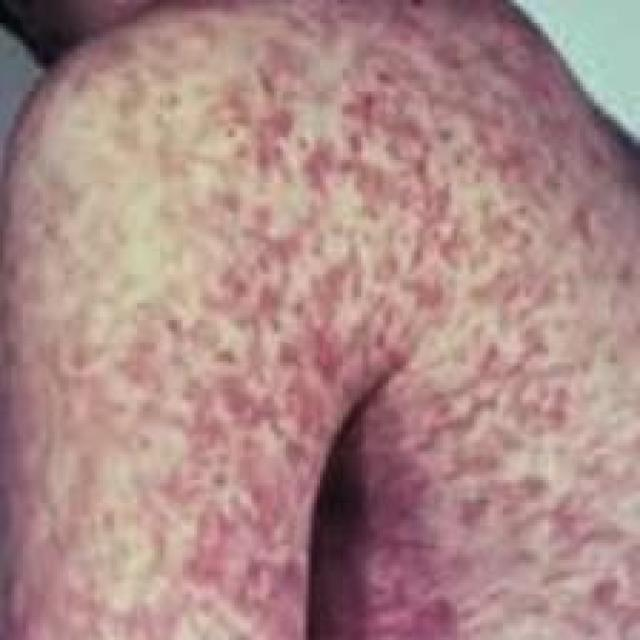others: (9, 0, 628, 640)
